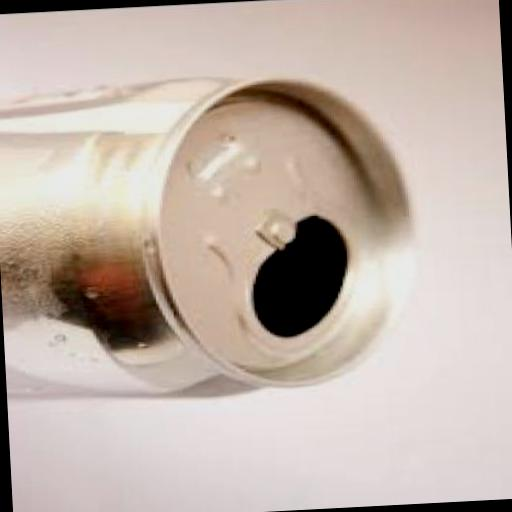metal: (0, 59, 423, 404)
